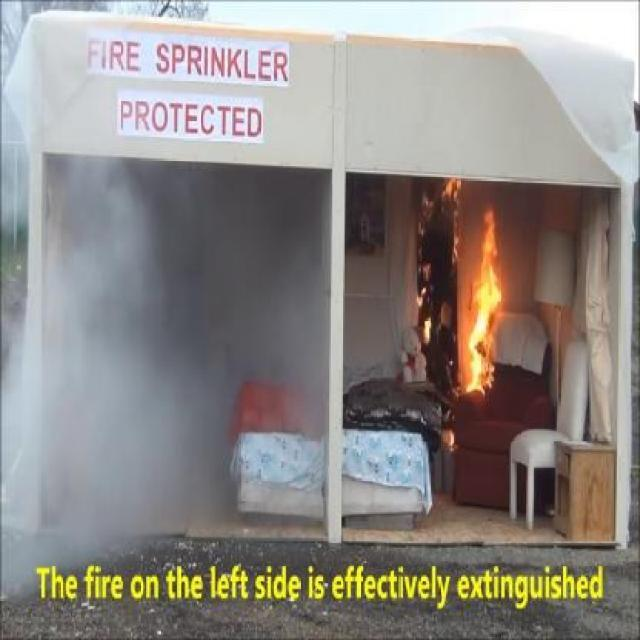fire: (428, 202, 500, 402)
smoke: (0, 109, 272, 562)
